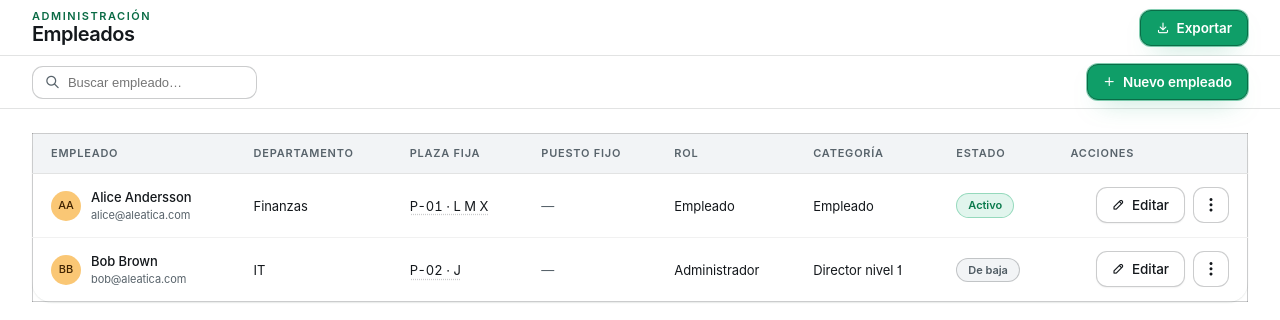
it: EmployeesPage › should_request_with_q_and_filter_when_searching
The width and height of the screenshot is (1280, 320).
Check: the text "Alice Andersson" is shown, box left=91, top=187, right=191, bottom=207
Type "Bob" into the search field at x=156, y=82, box left=68, top=66, right=244, bottom=98
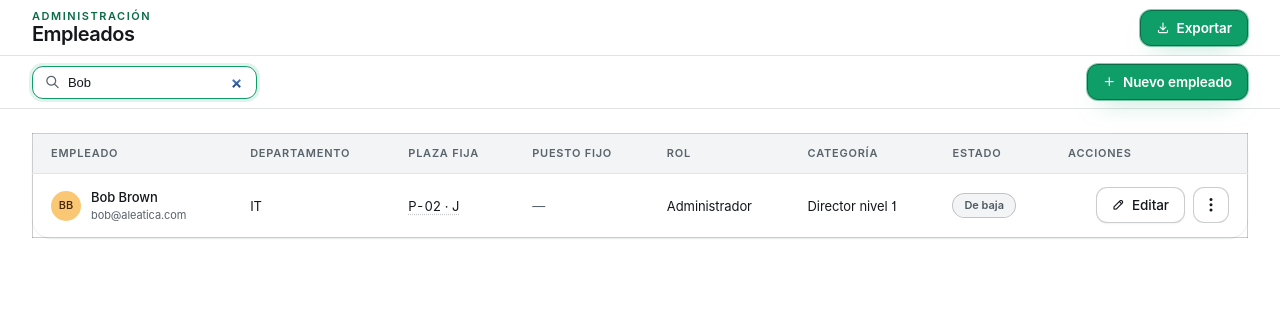
Check: the text "Bob Brown" is shown, box left=91, top=189, right=158, bottom=205
Check: the text "Alice Andersson" is gone
